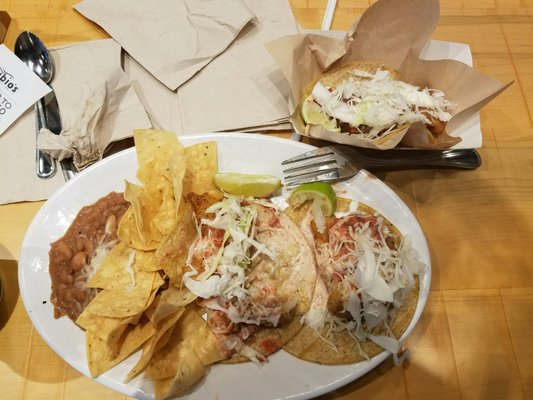burger: (281, 149, 360, 193)
salad: (13, 31, 63, 135)
soup: (301, 58, 456, 148)
